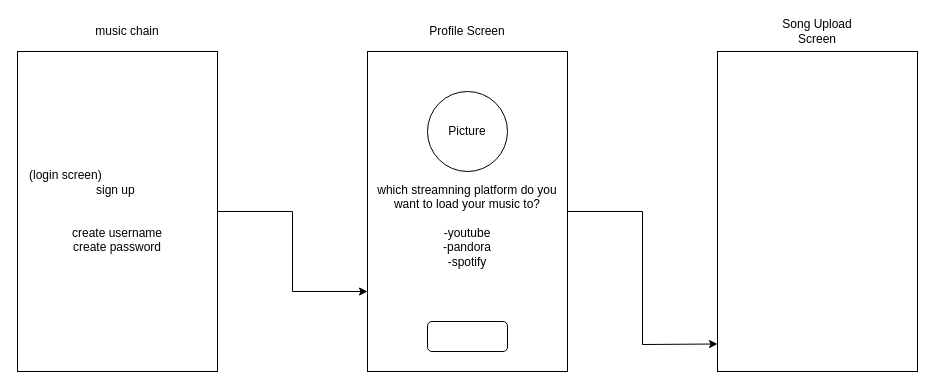
The diagram is 935 pixels wide and 389 high, and some of its shapes have lost their labels. The box of each missing label's shape, as (x1, y1, x2, y2) in pixels:
how many songs do you want to upload? How many albums do you want to upload?: (716, 50, 918, 372)
Upload Song: (426, 320, 508, 352)
